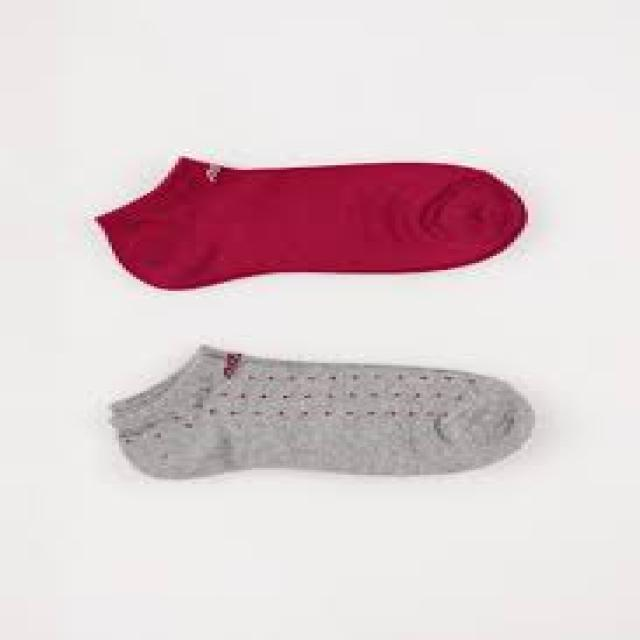sock: (91, 154, 528, 291), (105, 342, 535, 480)
